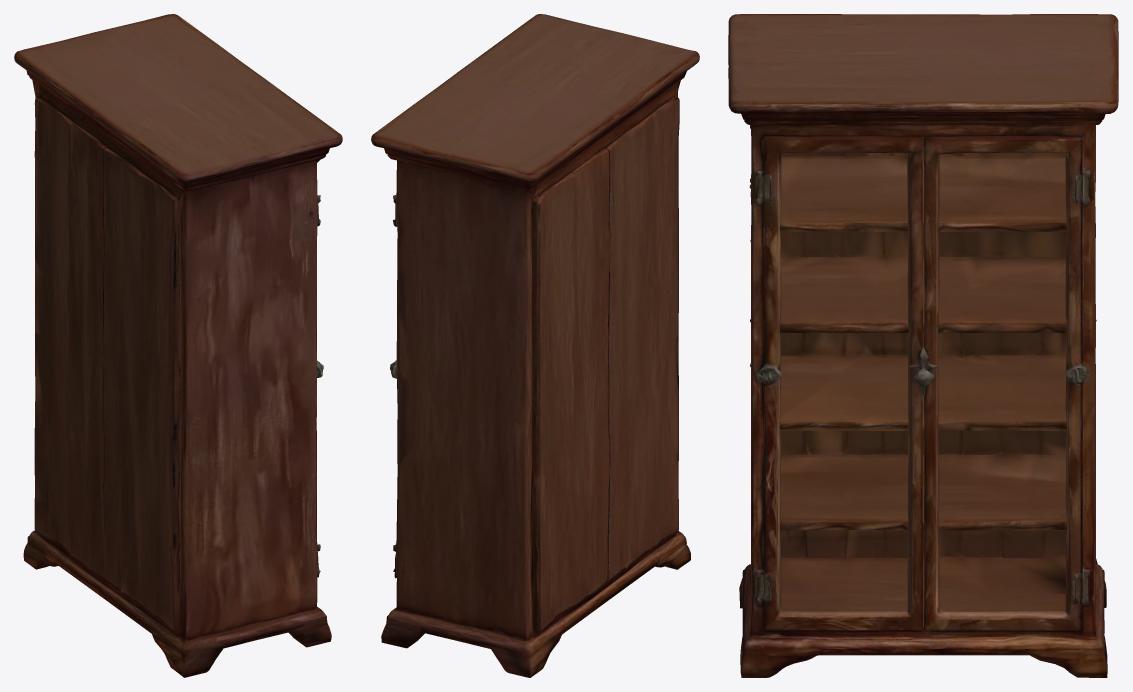
The model's file is vitrina.glb.
3 renders of one model, left to right at view 1: azimuth 30°, elevation 25°; view 2: azimuth 150°, elevation 25°; view 3: azimuth 270°, elevation 25°, orthographic. The views are drawn at different scales.
Visible parts, largest first — view 1: tripo_node_34fe4911-f6ad-4615-b3bc-a35158eb6a2a; view 2: tripo_node_34fe4911-f6ad-4615-b3bc-a35158eb6a2a; view 3: tripo_node_34fe4911-f6ad-4615-b3bc-a35158eb6a2a.
Boxes of the visible parts, left/top/right/bottom form: tripo_node_34fe4911-f6ad-4615-b3bc-a35158eb6a2a: left=14, top=14, right=342, bottom=677; tripo_node_34fe4911-f6ad-4615-b3bc-a35158eb6a2a: left=371, top=14, right=699, bottom=677; tripo_node_34fe4911-f6ad-4615-b3bc-a35158eb6a2a: left=728, top=14, right=1118, bottom=677.
Bounding box in the file's own units: 0.3399 × 1 × 0.6111.
1 material, 1 textured.
